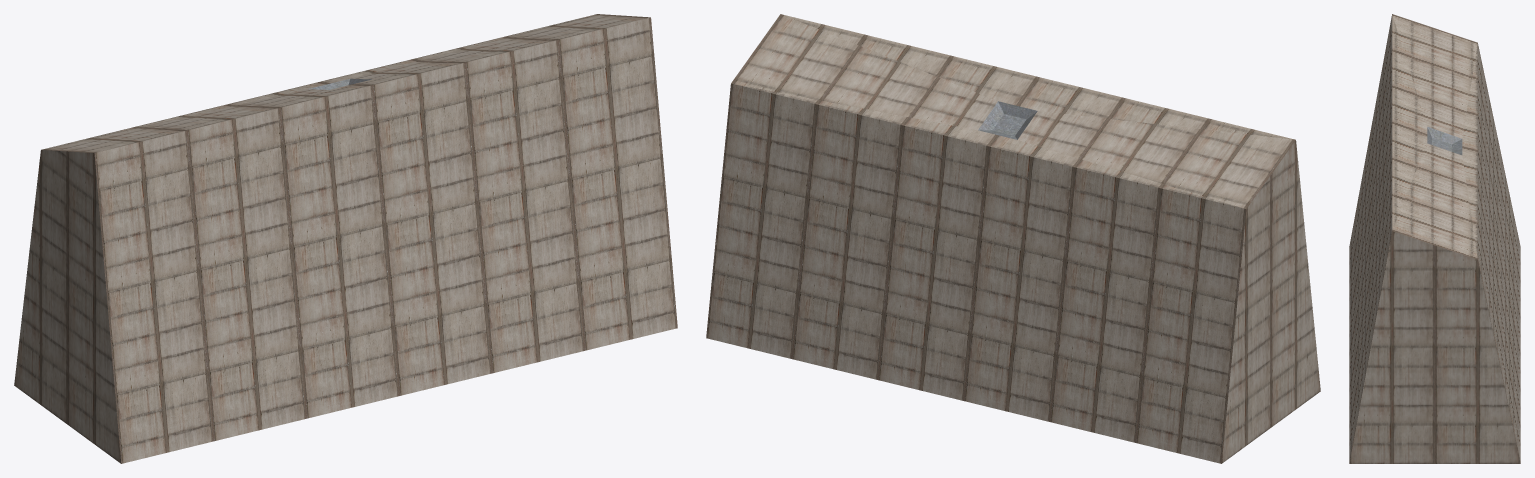
3 renders of one model, left to right at view 1: azimuth 30°, elevation 25°; view 2: azimuth 150°, elevation 25°; view 3: azimuth 270°, elevation 25°, orthographic. The views are drawn at different scales.
Visible parts, largest first — view 1: TexturesCom_ConcreteFence0027_1_seamless_S; view 2: TexturesCom_ConcreteFence0027_1_seamless_S, TexturesCom_ConcreteBare0398_7_seamless_S; view 3: TexturesCom_ConcreteFence0027_1_seamless_S, TexturesCom_ConcreteBare0398_7_seamless_S.
Part boxes in pixels (bbox=[...]): TexturesCom_ConcreteFence0027_1_seamless_S: bbox=[14, 14, 677, 463]; TexturesCom_ConcreteFence0027_1_seamless_S: bbox=[706, 14, 1320, 463]; TexturesCom_ConcreteBare0398_7_seamless_S: bbox=[978, 101, 1037, 139]; TexturesCom_ConcreteFence0027_1_seamless_S: bbox=[1349, 14, 1520, 463]; TexturesCom_ConcreteBare0398_7_seamless_S: bbox=[1427, 127, 1462, 155].
Bounding box in the file's own units: 6 × 3 × 2.
2 materials, 2 textured.
